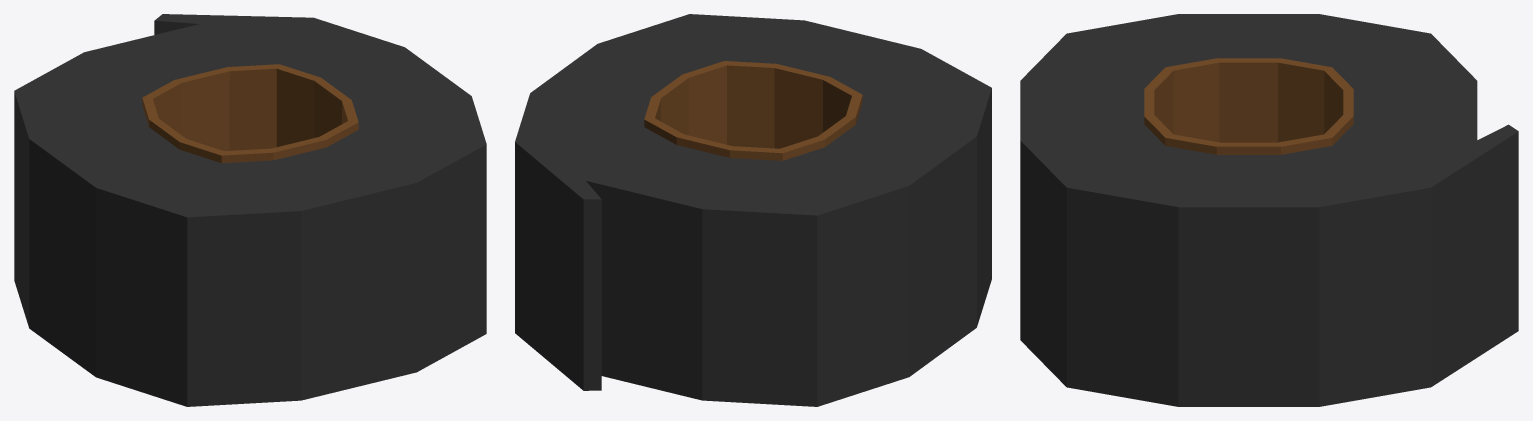
3 renders of one model, left to right at view 1: azimuth 30°, elevation 25°; view 2: azimuth 150°, elevation 25°; view 3: azimuth 270°, elevation 25°, orthographic. The views are drawn at different scales.
Visible parts, largest first — view 1: F-19; view 2: F-19; view 3: F-19.
Part boxes in pixels (x1,y1,x2,y2): F-19: (14,14,486,406); F-19: (515,14,991,406); F-19: (1020,14,1518,406).
Bounding box in the file's own units: 29.11 × 15.16 × 31.73.
